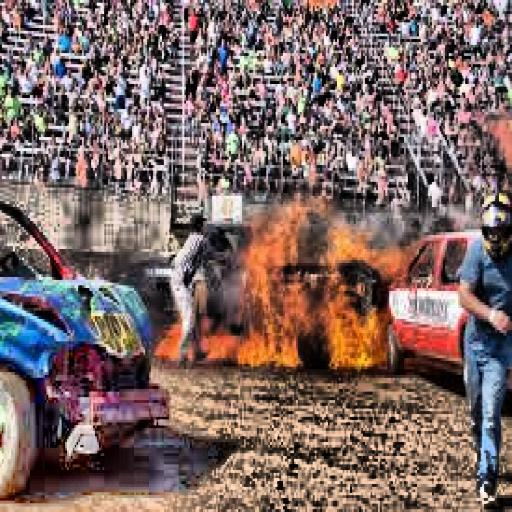fire: (242, 204, 406, 378), (151, 302, 240, 378)
